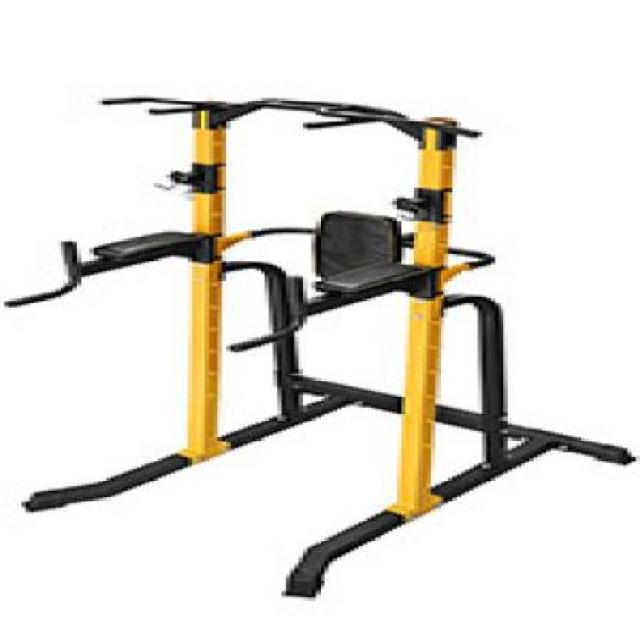chinning dipping: (12, 95, 631, 596)
